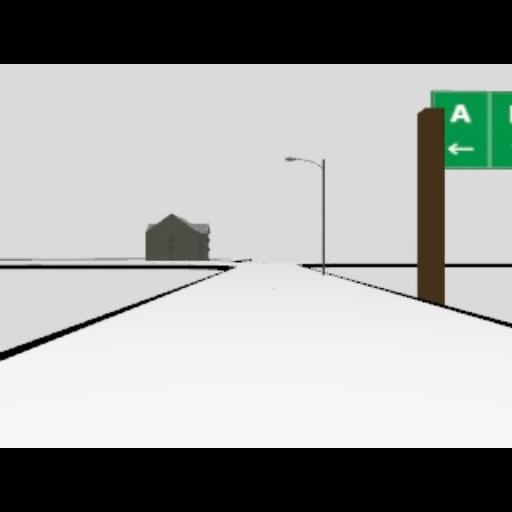A: (450, 101, 472, 123)
Left: (446, 142, 476, 156)
